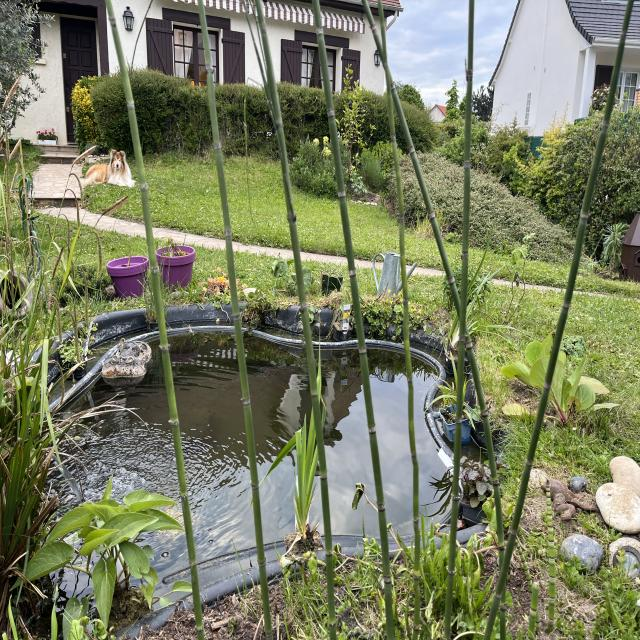Dog: (78, 132, 139, 202)
